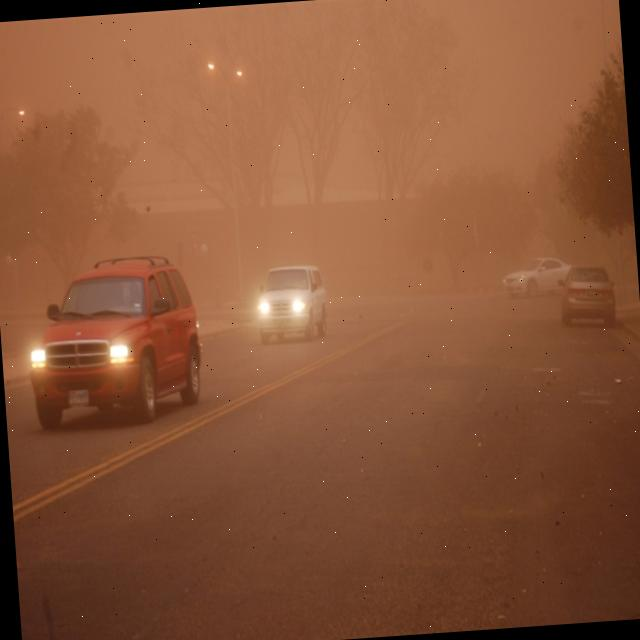car: (17, 253, 211, 434), (252, 262, 330, 344), (556, 263, 618, 328), (500, 255, 572, 298)
